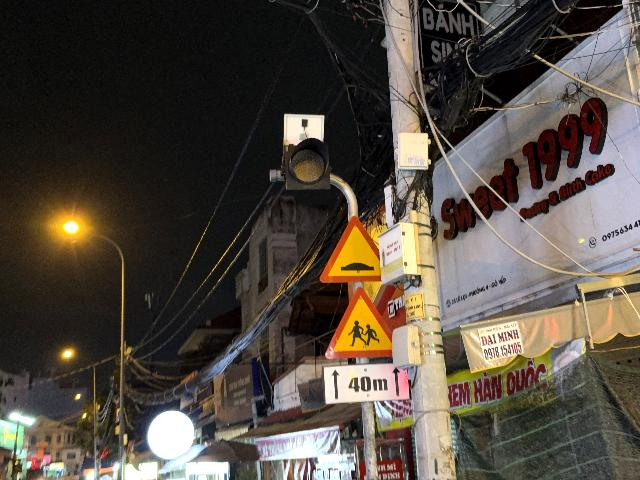duong-co-go-giam-toc: (320, 215, 381, 283)
tre-em-qua-duong: (324, 286, 393, 359)
